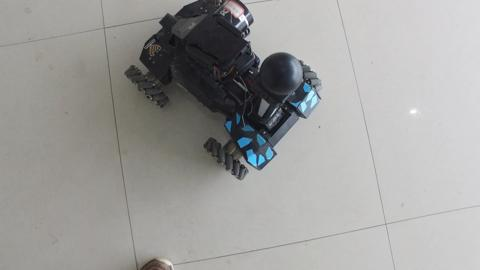chariot: (116, 2, 322, 167)
